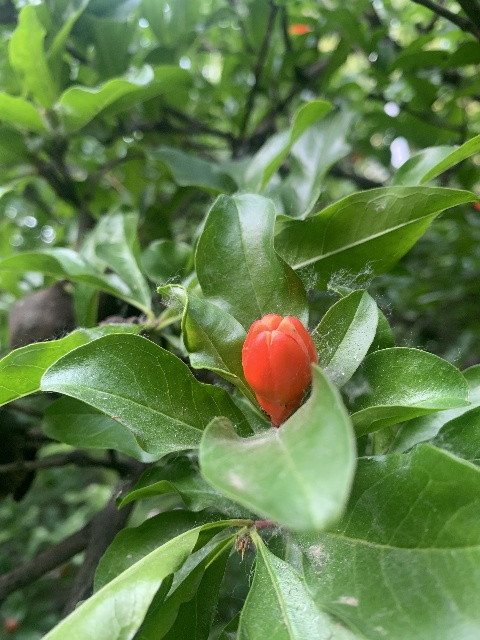bud: (242, 312, 317, 425)
